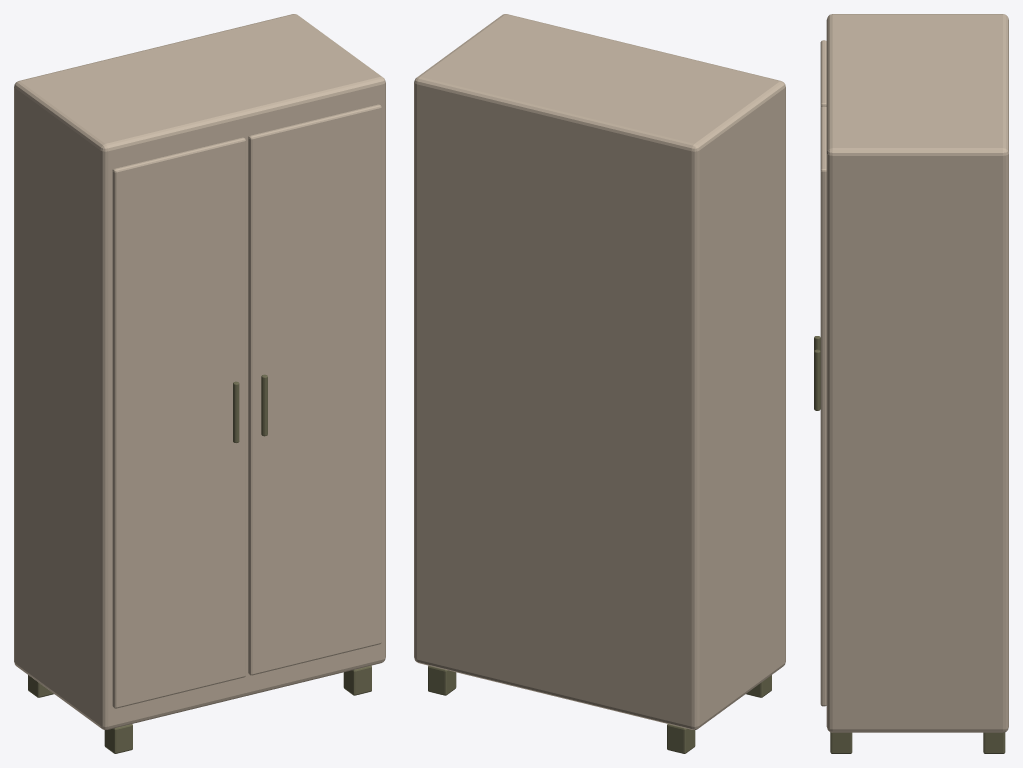
File: doors__entries___window_views_asset_sheet_31.glb
The picture shows the model from 3 angles, left to right: view 1: azimuth 30°, elevation 25°; view 2: azimuth 150°, elevation 25°; view 3: azimuth 270°, elevation 25°; orthographic projection.
Parts seen in each view (by area): view 1: Cube; view 2: Cube; view 3: Cube.
Boxes of the visible parts, x1,y1,x2,y2 form: Cube: (14,14,385,753); Cube: (414,14,785,753); Cube: (814,14,1008,753).
Size of the model in its own units: 0.9 by 1.85 by 0.535.
